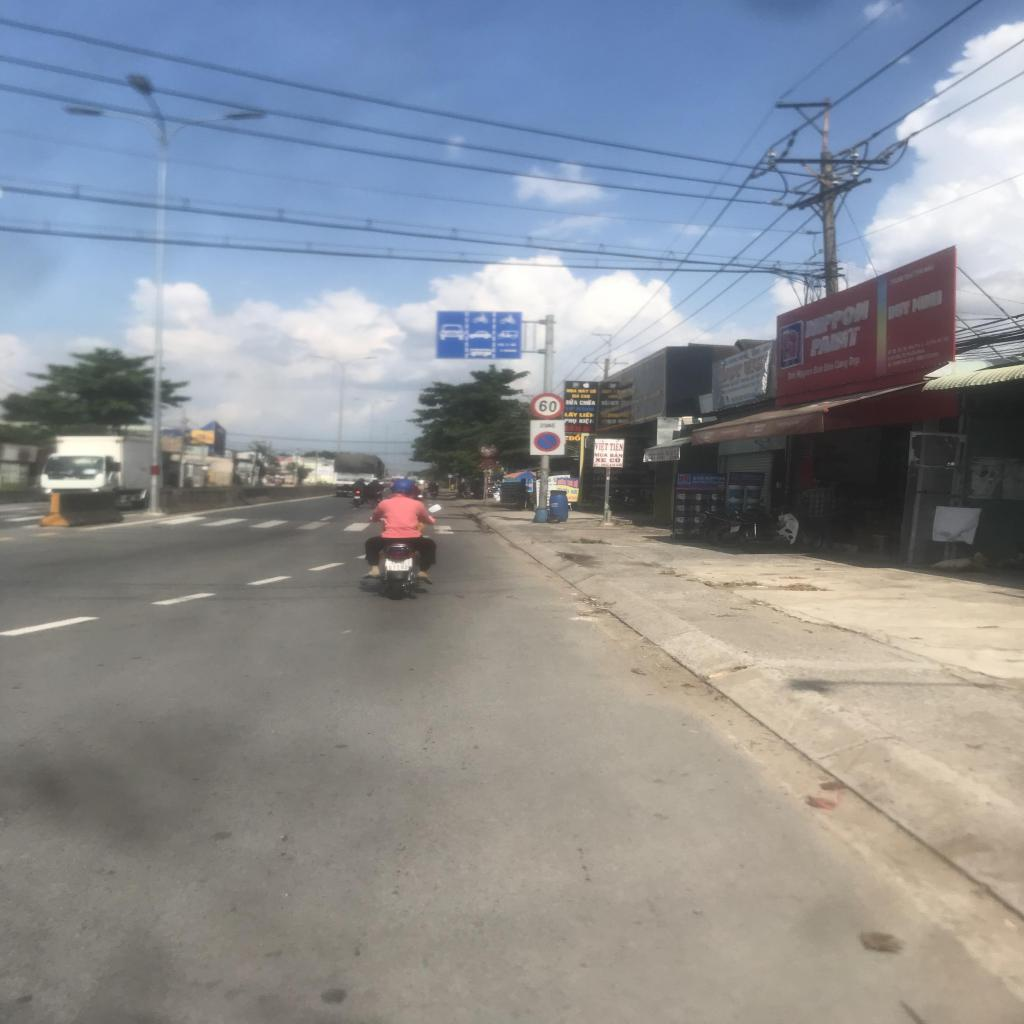cam_do_xe: (532, 431, 562, 453)
lan_duong_cho_tung_xe_theo_vach_ke_duong: (436, 310, 520, 359)
toc_do_toi_da_60: (530, 392, 566, 418)
